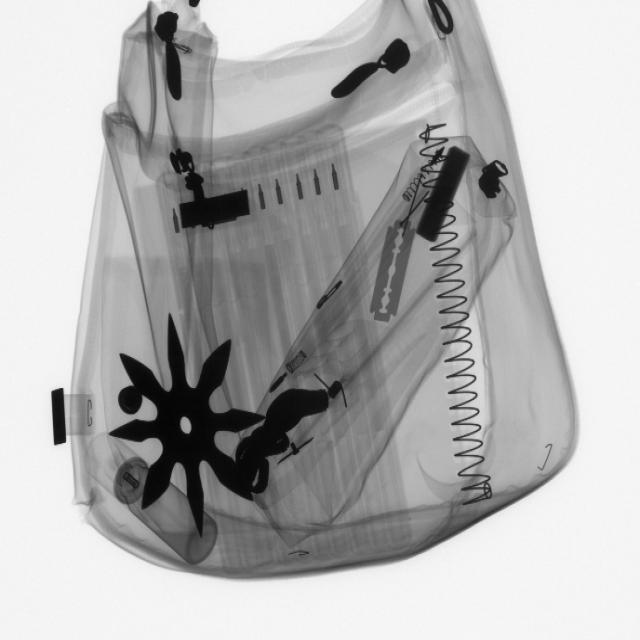BLADE: (367, 215, 419, 328)
SHURIKEN: (108, 315, 267, 535)
